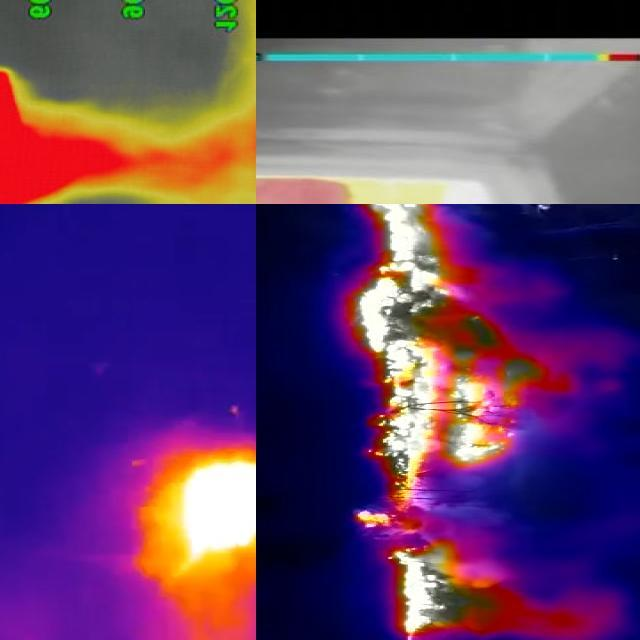fire: (351, 205, 549, 535), (1, 1, 257, 205), (131, 436, 257, 634), (387, 545, 523, 640)
